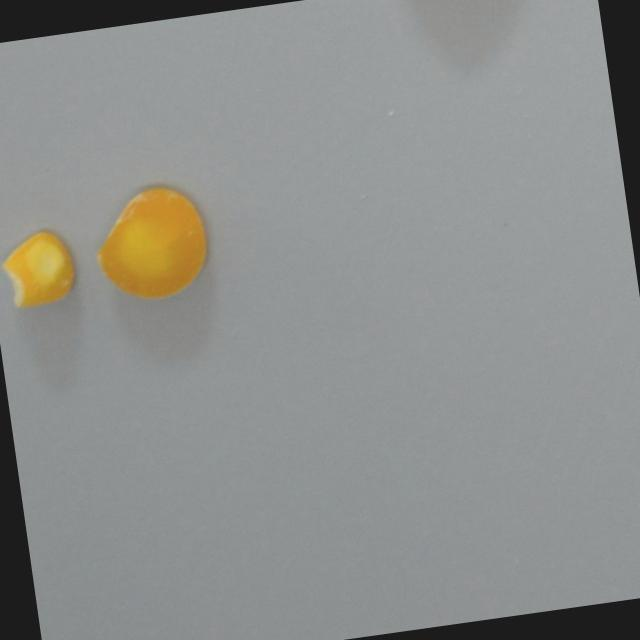pelicula: (97, 180, 216, 307)
